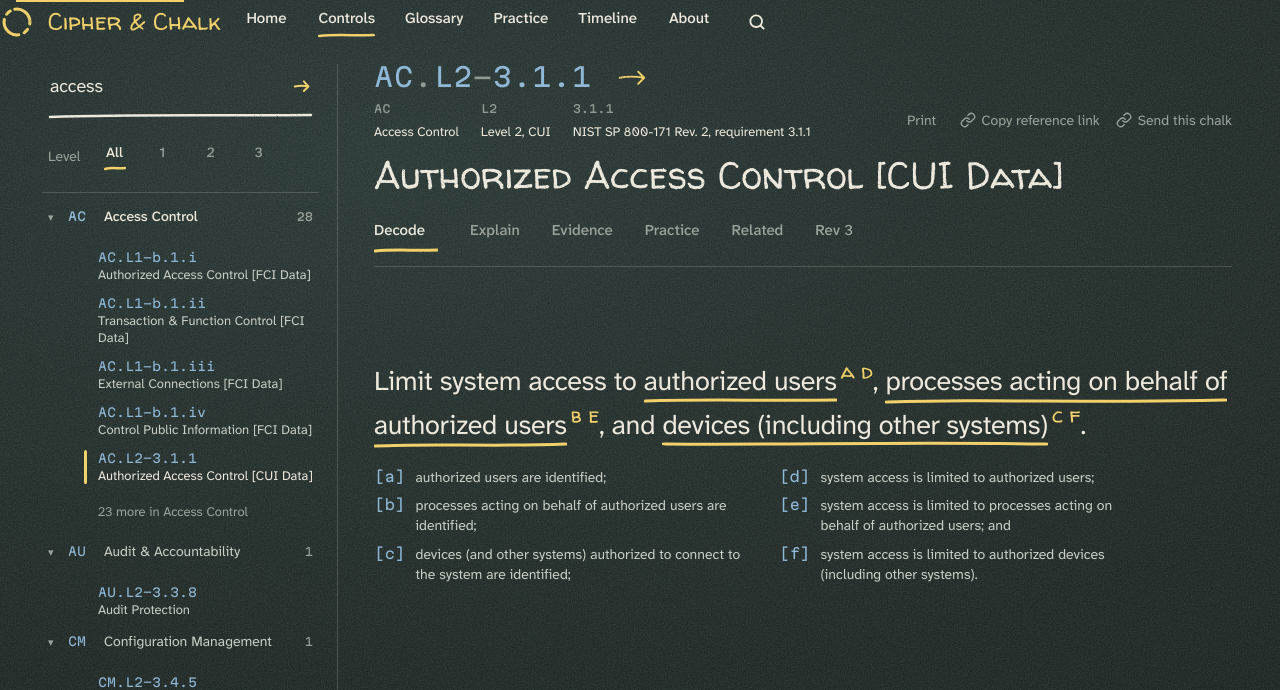
Test: Versioned CMMC reference catalog › shares a source identity without discovery text, and holds the demo’s practice on its own view
Click the button "Copy reference link": click(1030, 120) [960,98,1100,142]
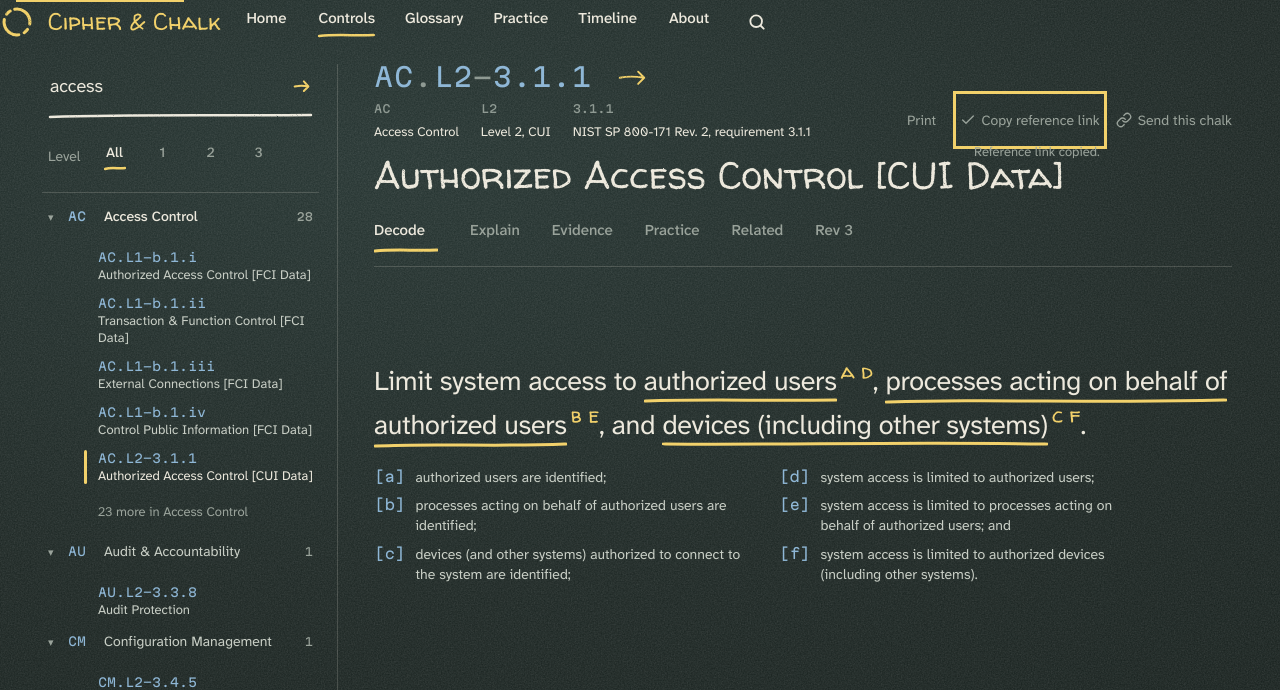
Now the text "Reference link copied." is shown, box [974,142,1100,163]
Click the link "Explain": click(495, 230) [470,220,520,240]
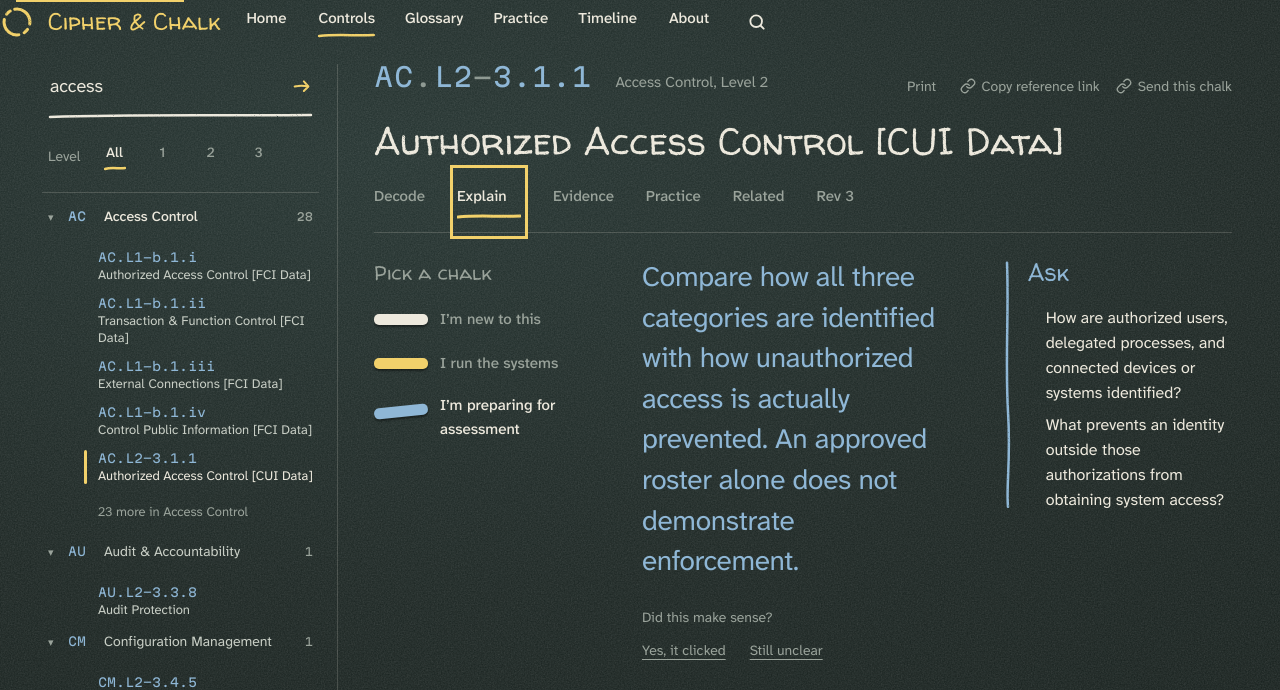
Click the tab "I’m new to this": click(484, 319) [374,297,594,341]
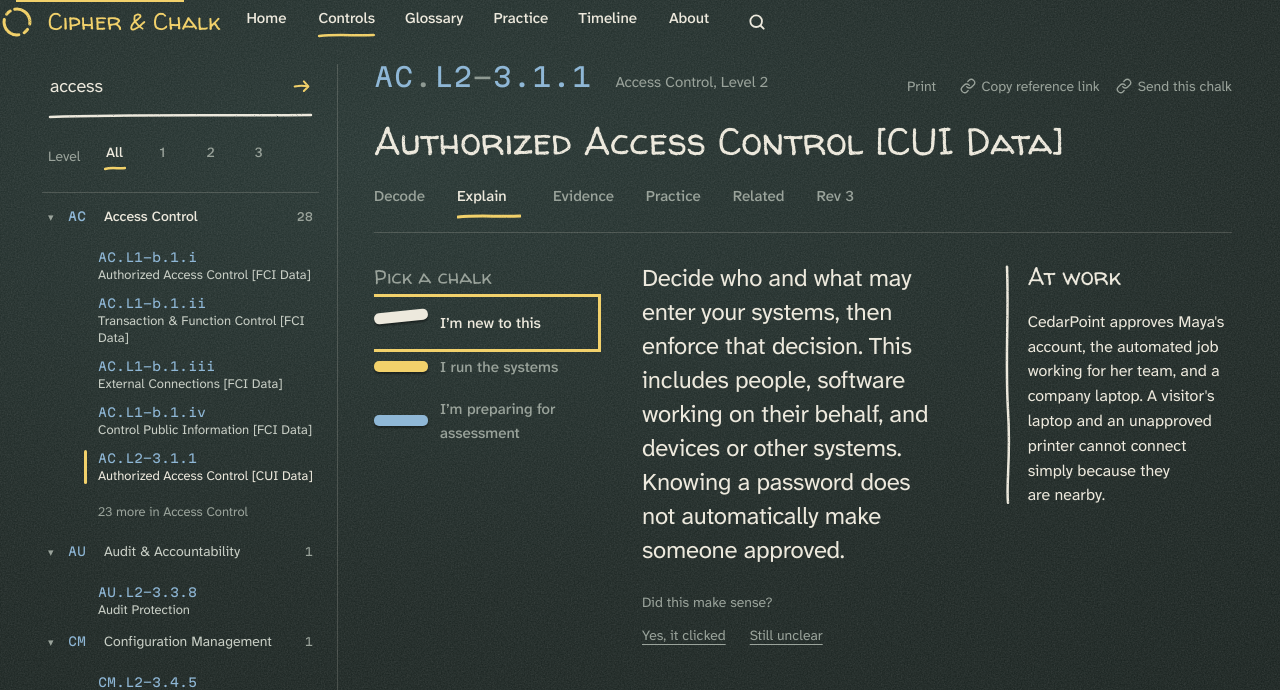
Expected: the text "Practice activity" is not shown
Now the panel named "I’m new to this" is shown, box [642,261,1232,658]
Click the link "Practice" next to "Evidence": click(673, 196) [646,186,701,206]
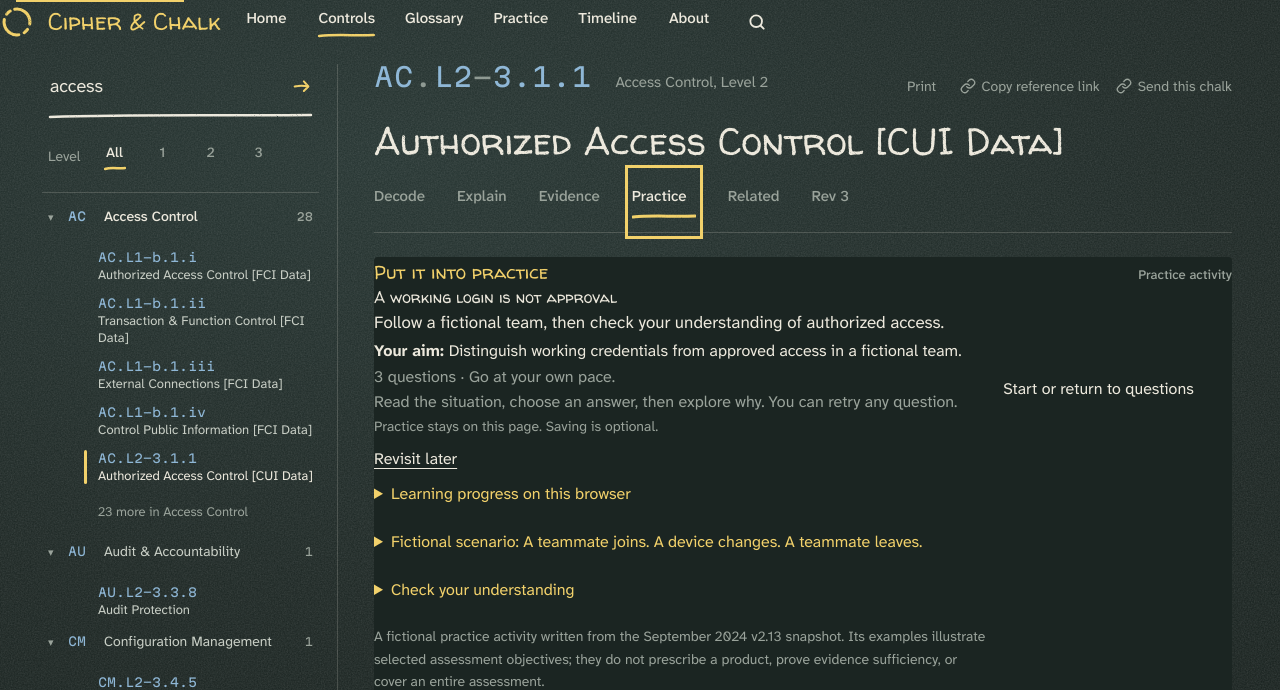
Now the text "Practice activity" is shown, box [1138,265,1232,286]
Now the heading "A working login is not approval" is shown, box [374,287,617,307]
